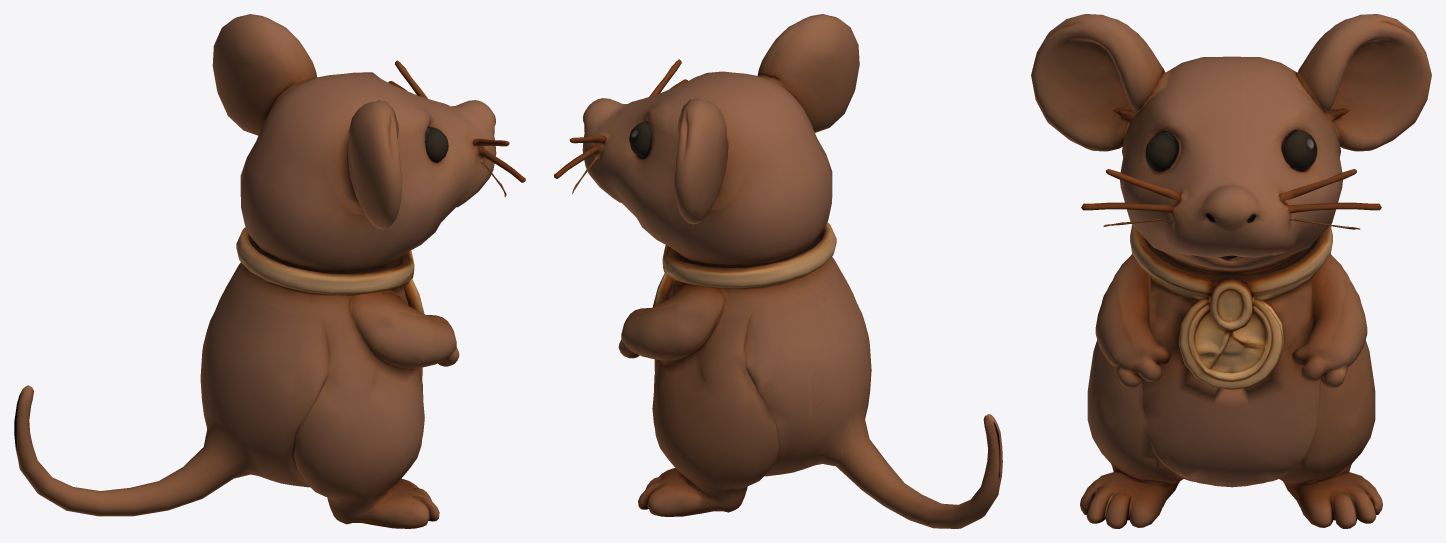
File: rat.glb
The picture shows the model from 3 angles, left to right: view 1: azimuth 30°, elevation 25°; view 2: azimuth 150°, elevation 25°; view 3: azimuth 270°, elevation 25°; orthographic projection. The views are drawn at different scales.
Parts seen in each view (by area): view 1: tripo_node_3592ad69-2ef2-4e12-ab00-d61902d0f5c9; view 2: tripo_node_3592ad69-2ef2-4e12-ab00-d61902d0f5c9; view 3: tripo_node_3592ad69-2ef2-4e12-ab00-d61902d0f5c9.
Boxes of the visible parts, <box> form: tripo_node_3592ad69-2ef2-4e12-ab00-d61902d0f5c9: <box>14,14,525,528</box>; tripo_node_3592ad69-2ef2-4e12-ab00-d61902d0f5c9: <box>554,14,1002,528</box>; tripo_node_3592ad69-2ef2-4e12-ab00-d61902d0f5c9: <box>1031,14,1431,528</box>.
Size of the model in its own units: 0.2179 by 0.2 by 0.1505.
1 material, 1 textured.
